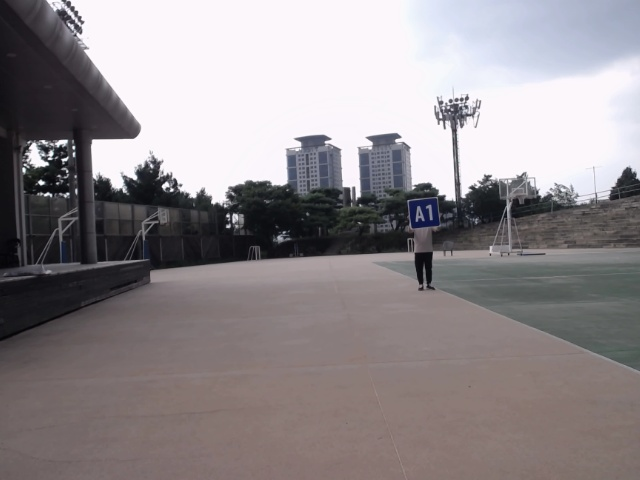delivery_a1: (408, 198, 440, 229)
